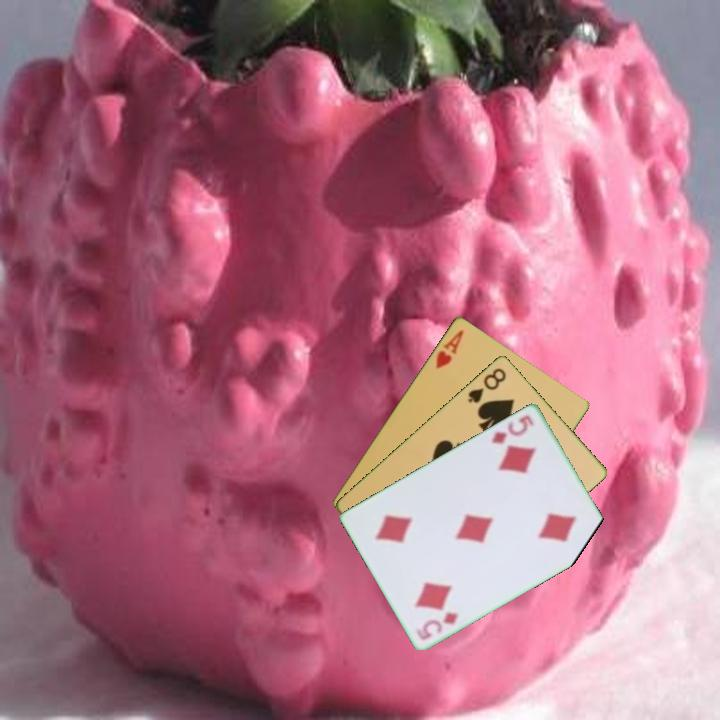5d: (488, 411, 537, 447), (413, 608, 461, 643)
8s: (464, 364, 509, 406)
Ah: (432, 326, 467, 371)
